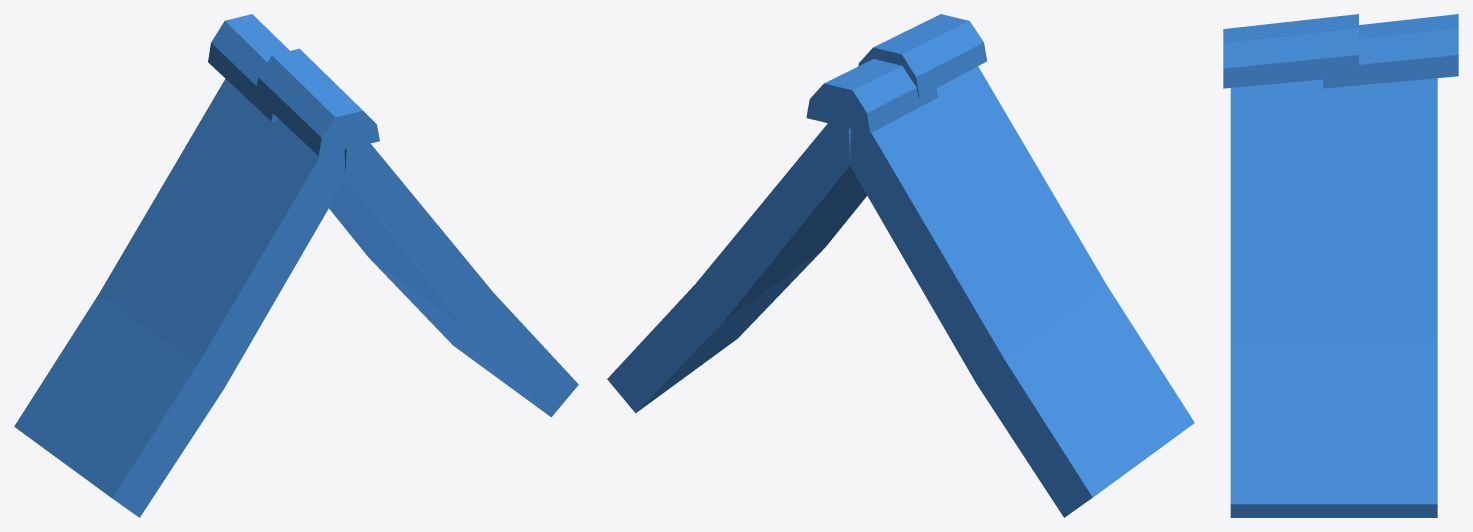
Rendered from Collision_Roof_Modular_FlatTiles_4_Mid.fbx.
The picture shows the model from 3 angles, left to right: view 1: azimuth 30°, elevation 25°; view 2: azimuth 150°, elevation 25°; view 3: azimuth 270°, elevation 25°; orthographic projection. The views are drawn at different scales.
Parts seen in each view (by area): view 1: UCX_Roof_Modular_FlatTiles_4_Mid_01; view 2: UCX_Roof_Modular_FlatTiles_4_Mid_01; view 3: UCX_Roof_Modular_FlatTiles_4_Mid_01.
Boxes of the visible parts, x1,y1,x2,y2 form: UCX_Roof_Modular_FlatTiles_4_Mid_01: [14, 14, 578, 517]; UCX_Roof_Modular_FlatTiles_4_Mid_01: [607, 14, 1194, 517]; UCX_Roof_Modular_FlatTiles_4_Mid_01: [1223, 14, 1458, 517].
Bounding box in the file's own units: 545 × 414 × 226.
